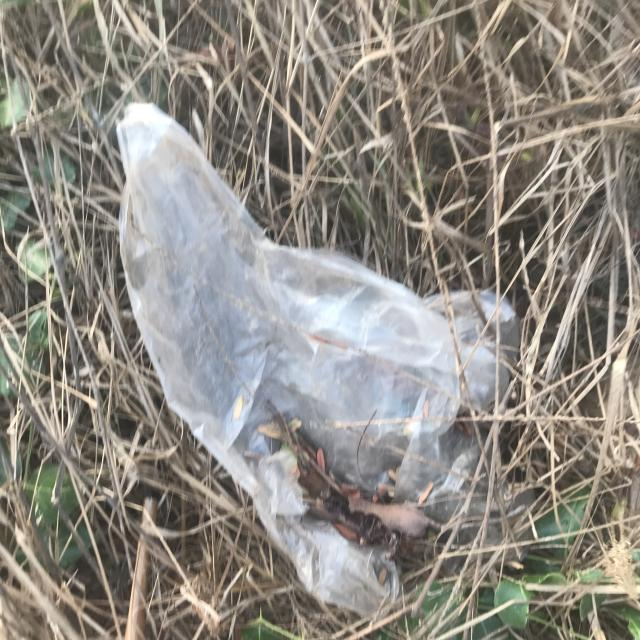Single-layer Plastic: (118, 104, 519, 616)
